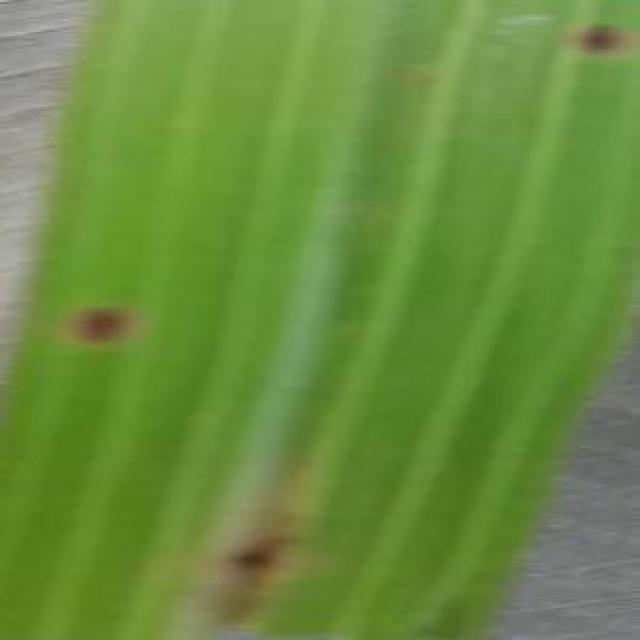brownspots: (214, 524, 308, 584), (66, 296, 141, 350), (574, 8, 623, 62)
